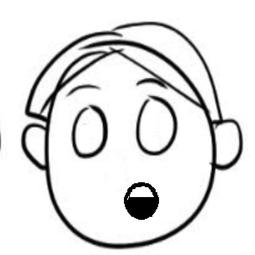ear: (11, 117, 57, 177), (207, 117, 249, 177)
empty_eye: (128, 93, 180, 159), (65, 100, 110, 162)
eyebrow: (60, 77, 110, 100), (128, 73, 175, 89)
open_mouth: (115, 174, 168, 224)
